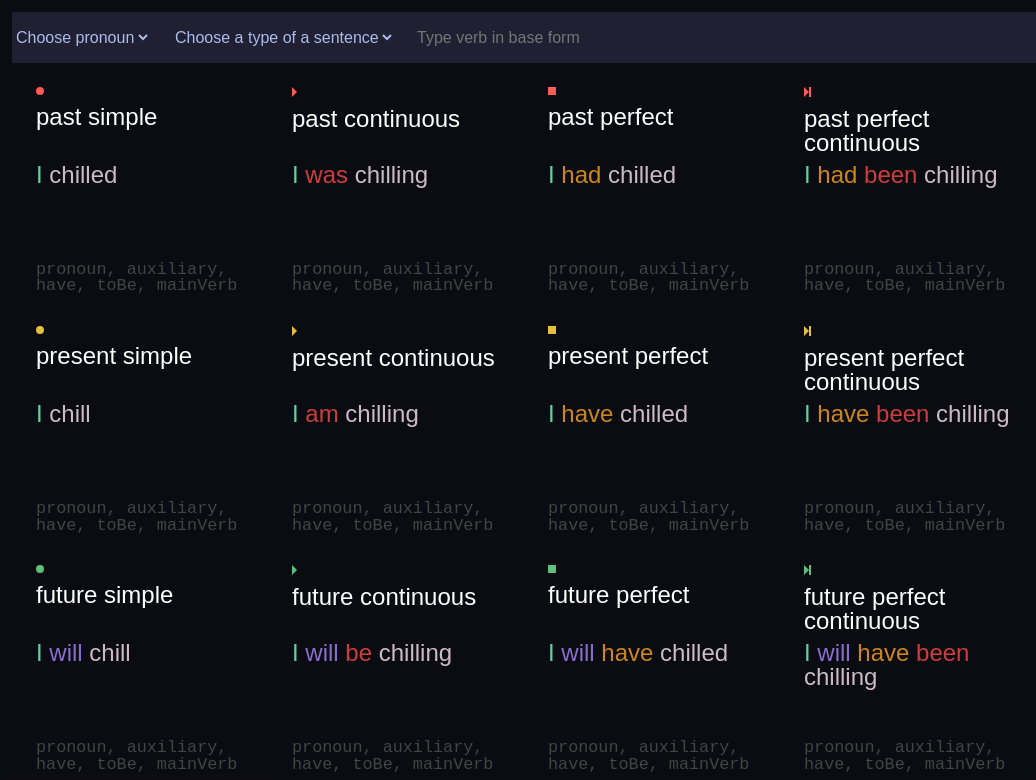
Test: Adjective phrases are correct › Plural
Select "they" in the 1st dropdown with class "select" at (82, 37), box [12,12,151,62]
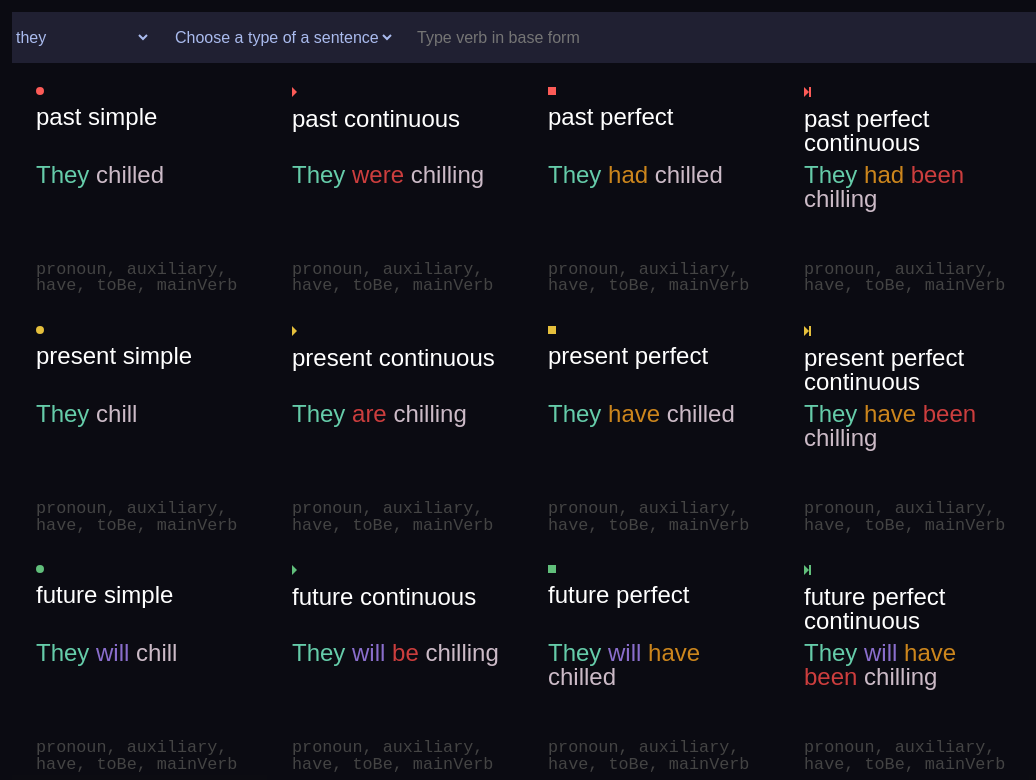
Check: the element showing "They chilled" is shown, box [12,62,268,302]
Check: the element showing "They were chilling" is shown, box [268,62,524,302]
Check: the element showing "They had chilled" is shown, box [524,62,780,302]
